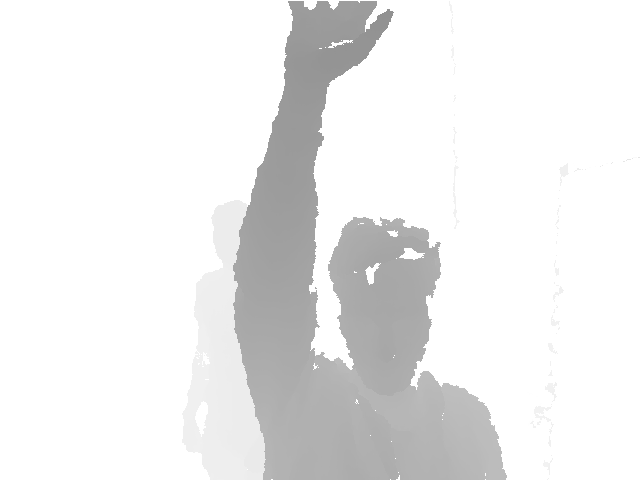hand: (282, 1, 394, 90)
head: (326, 216, 441, 394)
person: (232, 1, 508, 479)
